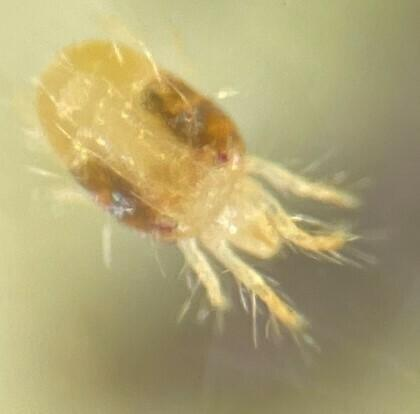tiny_pests: (0, 0, 409, 396)
